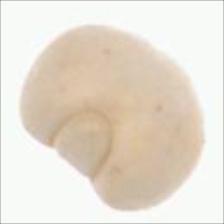L5: (48, 106, 115, 182)
L6: (18, 23, 206, 212)
